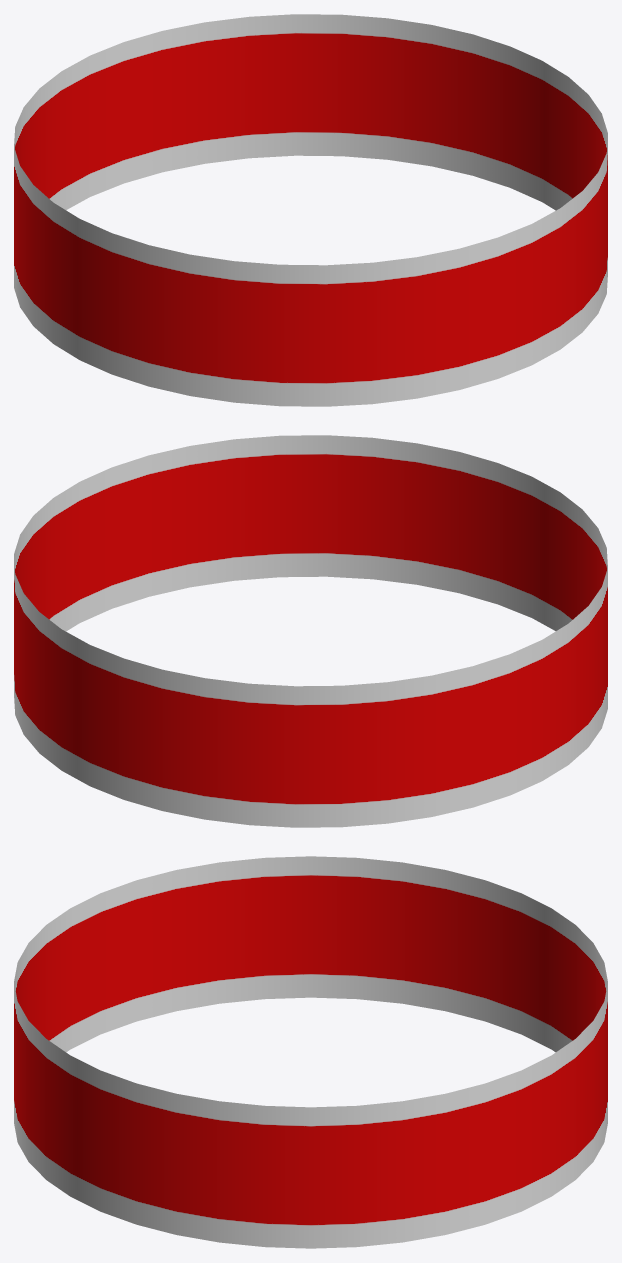
File: warning_01.obj
3 views of the same model, one above another, from view 1: azimuth 30°, elevation 25°; view 2: azimuth 150°, elevation 25°; view 3: azimuth 270°, elevation 25° (orthographic).
Visible parts, largest first — view 1: warning_bg_02; view 2: warning_bg_02; view 3: warning_bg_02.
Part boxes in pixels (x1,y1,x2,y2): warning_bg_02: (14, 14, 607, 406); warning_bg_02: (14, 435, 607, 827); warning_bg_02: (14, 856, 607, 1248).
Size of the model in its own units: 4.75 by 1.25 by 4.75.
